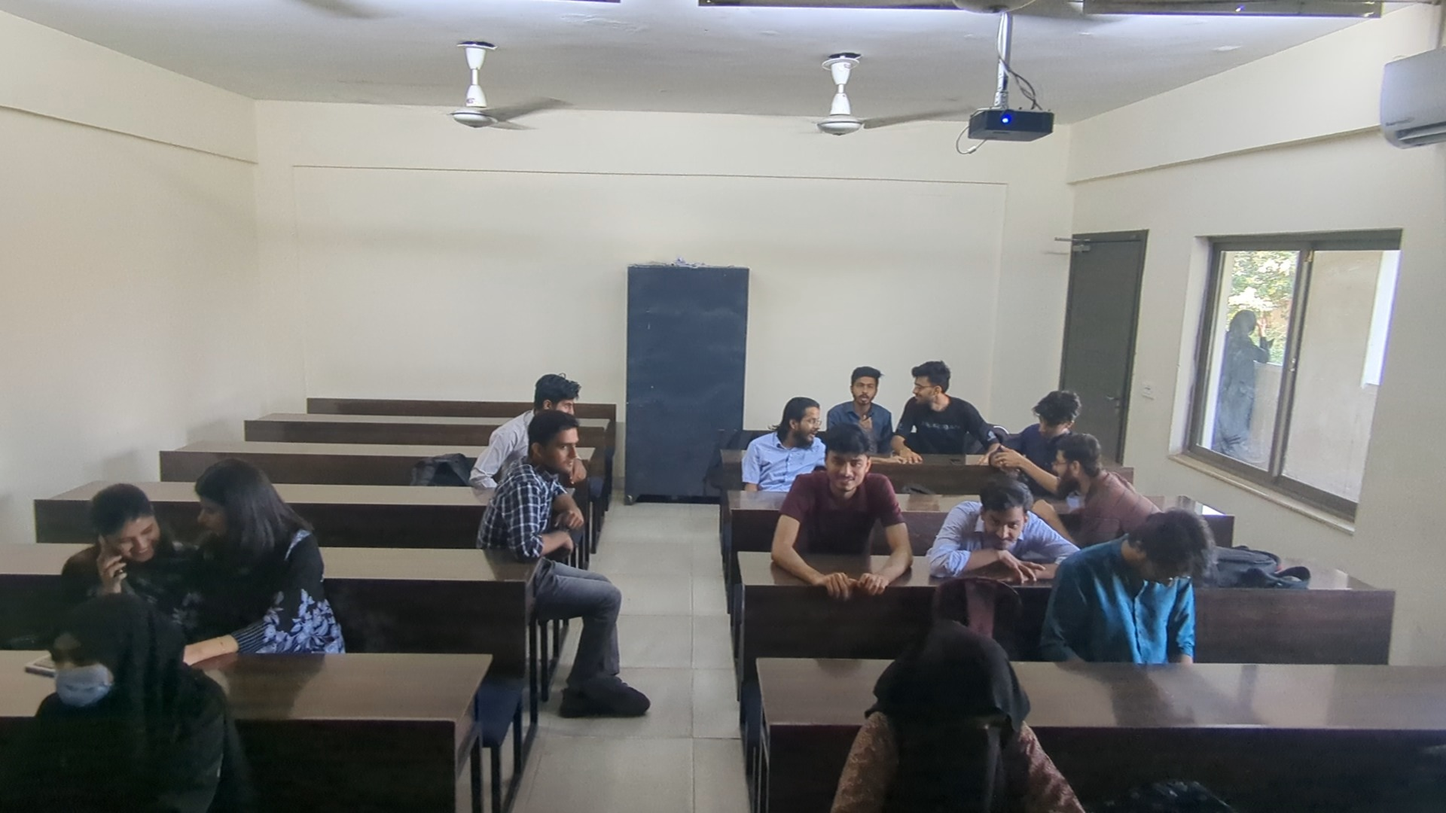look_forward: (954, 469, 1027, 567), (817, 448, 882, 541), (849, 377, 898, 443)
sleep: (36, 603, 176, 746)
turn_head: (184, 460, 329, 628), (491, 406, 594, 534), (1046, 435, 1128, 521), (911, 363, 961, 447), (770, 403, 823, 463), (536, 369, 587, 417)
using_device: (877, 620, 1009, 810), (1090, 518, 1228, 660), (67, 473, 169, 597)
